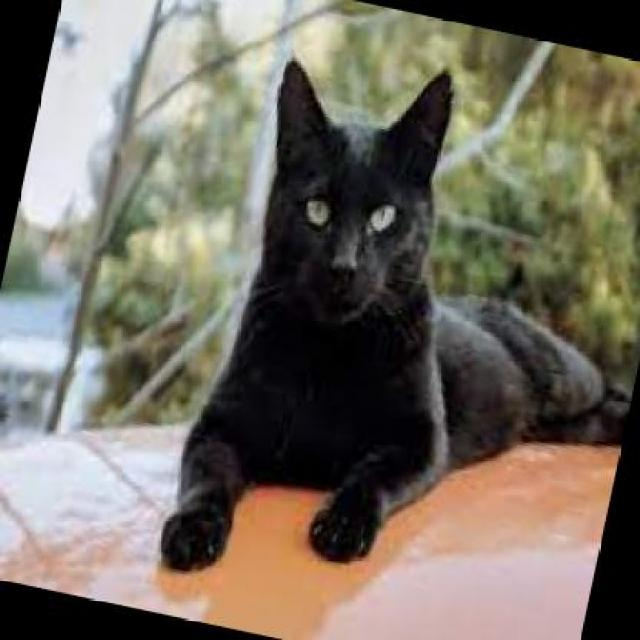animals: (131, 37, 638, 638)
